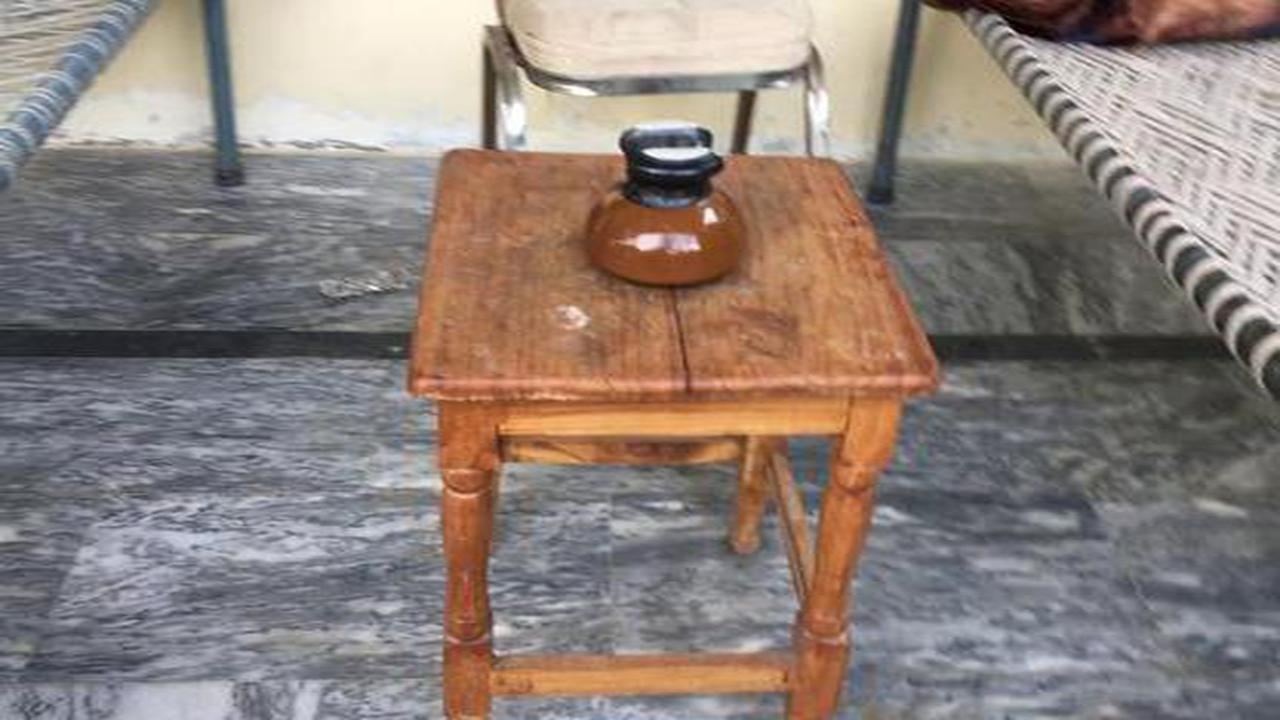insulator_pin: (561, 111, 767, 303)
